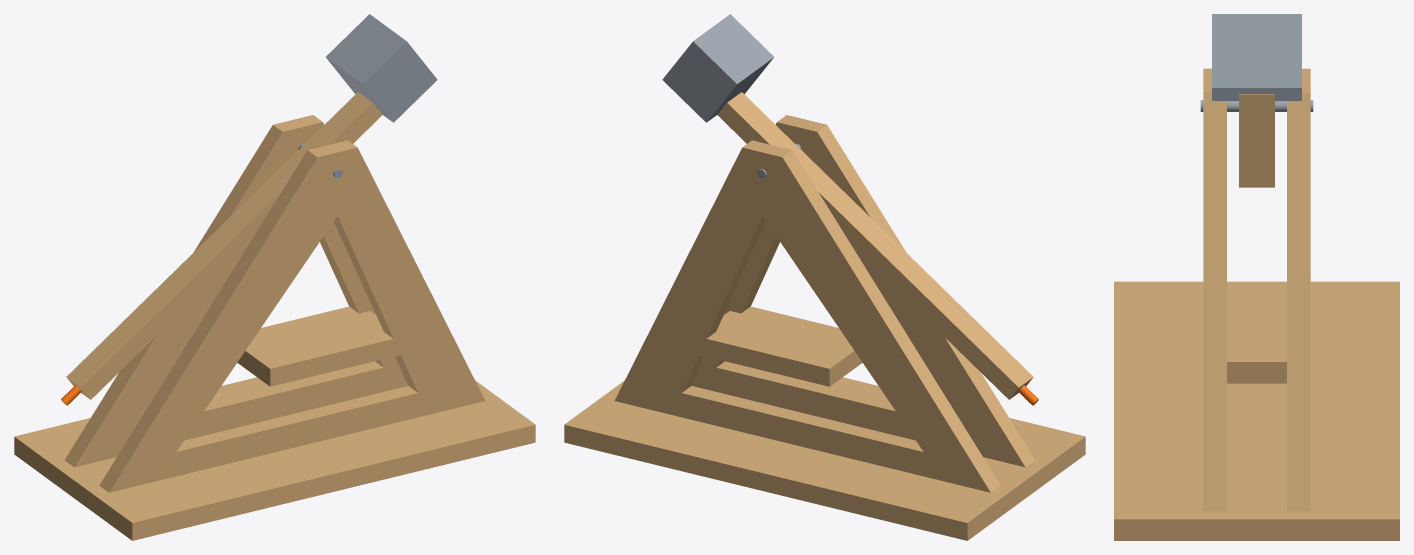
The model's file is Sample_Trebuchet.glb.
The picture shows the model from 3 angles, left to right: view 1: azimuth 30°, elevation 25°; view 2: azimuth 150°, elevation 25°; view 3: azimuth 270°, elevation 25°; orthographic projection. The views are drawn at different scales.
Visible parts, largest first — view 1: A-Frame L, Base Plate, A-Frame R, Throwing Arm, Cross Brace, Counterweight Box; view 2: A-Frame R, Base Plate, A-Frame L, Throwing Arm, Cross Brace, Counterweight Box; view 3: Base Plate, A-Frame L, A-Frame R, Counterweight Box, Cross Brace, Throwing Arm, Axle 1/4in.
Part boxes in pixels (x1,y1,x2,y2): A-Frame L: (99, 140, 485, 492); Base Plate: (14, 377, 535, 540); A-Frame R: (65, 115, 408, 467); Throwing Arm: (66, 92, 382, 399); Cross Brace: (237, 306, 400, 386); Counterweight Box: (326, 14, 437, 122); A-Frame R: (614, 140, 1000, 492); Base Plate: (564, 377, 1085, 540); A-Frame L: (691, 115, 1034, 467); Throwing Arm: (717, 92, 1033, 399); Cross Brace: (699, 306, 862, 386); Counterweight Box: (662, 14, 773, 122); Base Plate: (1114, 281, 1399, 540); A-Frame L: (1203, 68, 1226, 511); A-Frame R: (1287, 68, 1310, 511); Counterweight Box: (1212, 14, 1301, 100); Cross Brace: (1227, 282, 1286, 383); Throwing Arm: (1239, 94, 1274, 187); Axle 1/4in: (1200, 100, 1313, 111).
Bounding box in the file's own units: 0.3085 × 0.2795 × 0.1524.
